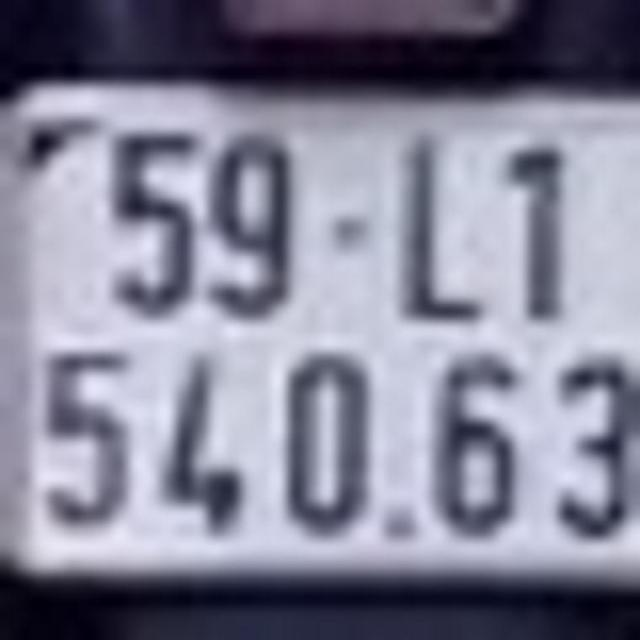0: (278, 342, 372, 532)
1: (504, 134, 572, 316)
3: (548, 348, 634, 542)
4: (162, 347, 241, 535)
5: (107, 119, 197, 322), (47, 340, 137, 536)
6: (433, 347, 517, 536)
9: (206, 125, 301, 318)
L: (398, 129, 484, 321)
